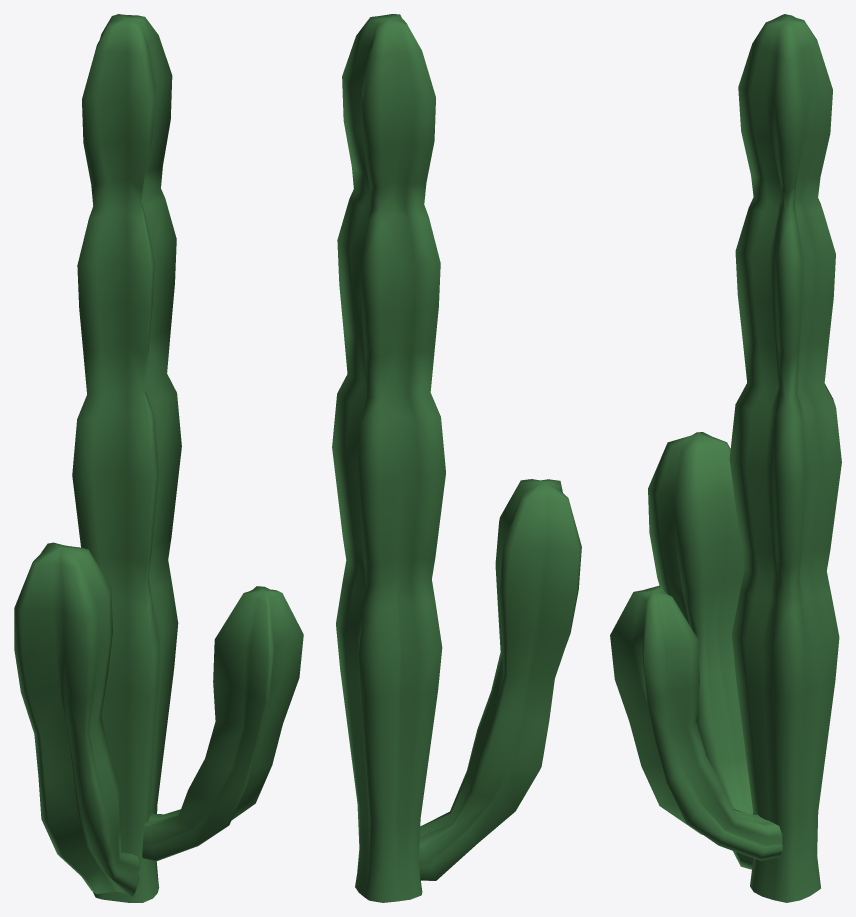
File: obj_plant_00403_plant.FBX
3 views of the same model, side by side, from view 1: azimuth 30°, elevation 25°; view 2: azimuth 150°, elevation 25°; view 3: azimuth 270°, elevation 25° (orthographic).
Parts seen in each view (by area): view 1: plant11_00; view 2: plant11_00; view 3: plant11_00.
Part boxes in pixels (x1=…): plant11_00: x1=14, y1=14, x2=303, y2=902; plant11_00: x1=332, y1=14, x2=581, y2=902; plant11_00: x1=610, y1=14, x2=841, y2=902.
Size of the model in its own units: 3.39 by 10.99 by 2.66.
